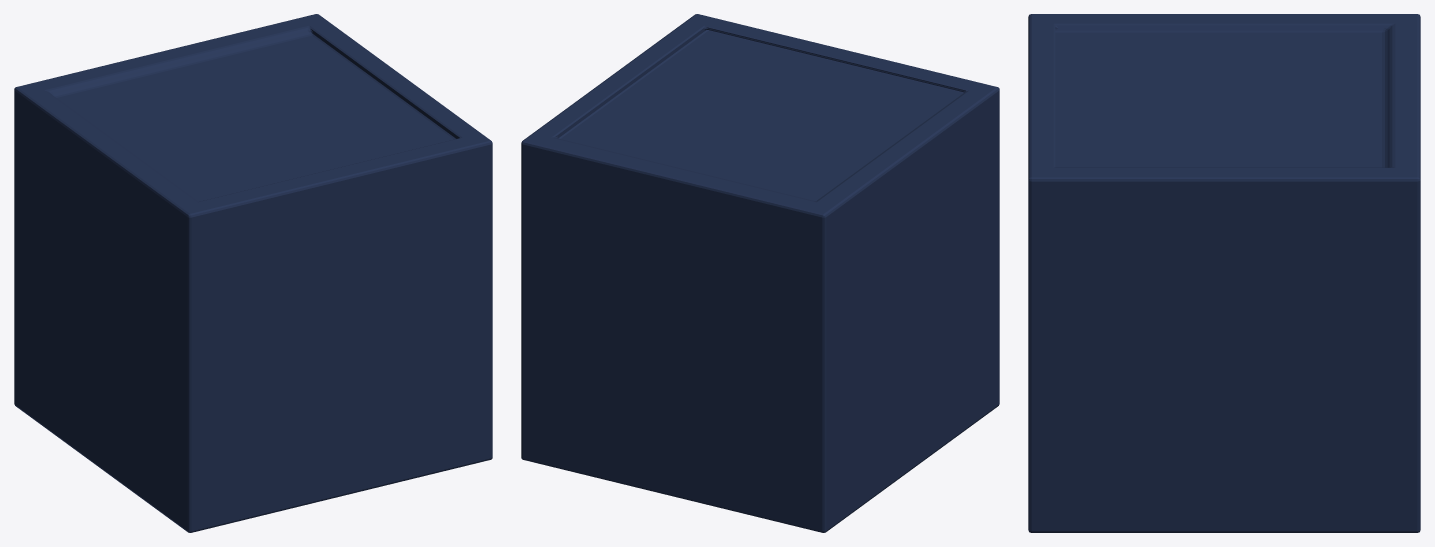
The picture shows the model from 3 angles, left to right: view 1: azimuth 30°, elevation 25°; view 2: azimuth 150°, elevation 25°; view 3: azimuth 270°, elevation 25°; orthographic projection. The views are drawn at different scales.
Visible parts, largest first — view 1: Cube_1; view 2: Cube_1; view 3: Cube_1.
Part boxes in pixels (x1,y1,x2,y2): Cube_1: [14, 14, 492, 532]; Cube_1: [521, 14, 999, 532]; Cube_1: [1028, 14, 1420, 532].
Bounding box in the file's own units: 1 × 1 × 1.
